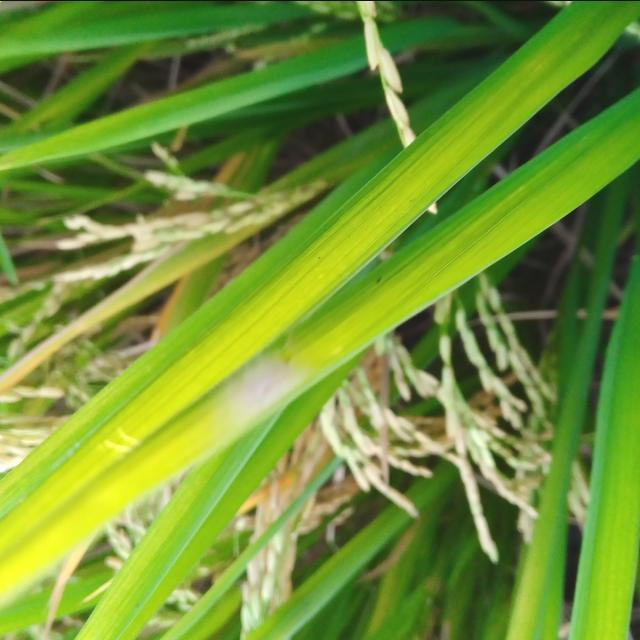Hawar Daun Bakteri: (46, 289, 130, 351), (0, 350, 46, 430)
Penggulung Daun: (210, 328, 328, 448)
brown spot: (373, 271, 388, 286), (316, 250, 324, 262)
